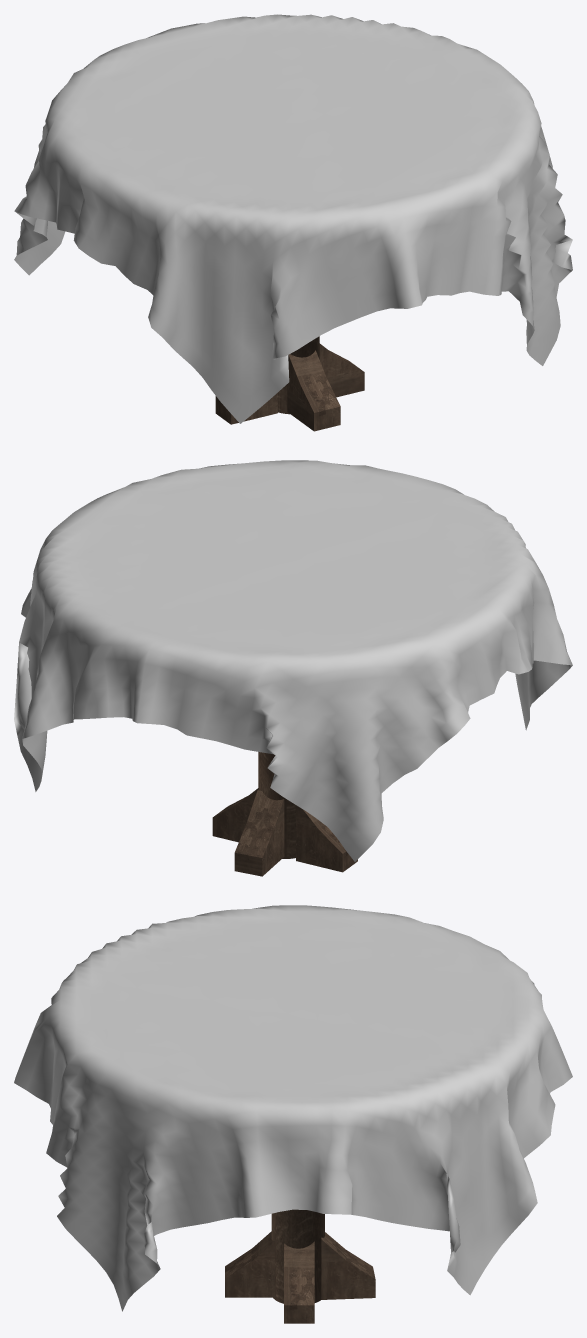
Rendered from MesaComer.fbx.
3 views of the same model, one above another, from view 1: azimuth 30°, elevation 25°; view 2: azimuth 150°, elevation 25°; view 3: azimuth 270°, elevation 25° (orthographic).
Parts seen in each view (by area): view 1: Plane, Cube.003, Cube.001, Cube.002, Cylinder.001; view 2: Plane, Cube.004, Cube.002, Cylinder.001, Cube.001; view 3: Plane, Cylinder.001, Cube.004, Cube.003, Cube.001.
Boxes of the visible parts, left/top/right/bottom form: Plane: left=14, top=14, right=572, bottom=423; Cube.003: left=287, top=350, right=340, bottom=431; Cube.001: left=319, top=343, right=364, bottom=397; Cube.002: left=215, top=392, right=277, bottom=424; Cylinder.001: left=278, top=336, right=319, bottom=414; Plane: left=14, top=460, right=572, bottom=861; Cube.004: left=234, top=790, right=284, bottom=876; Cube.002: left=296, top=805, right=357, bottom=872; Cylinder.001: left=258, top=752, right=295, bottom=858; Cube.001: left=212, top=788, right=258, bottom=842; Plane: left=14, top=905, right=572, bottom=1311; Cylinder.001: left=271, top=1209, right=324, bottom=1303; Cube.004: left=321, top=1232, right=375, bottom=1299; Cube.003: left=225, top=1231, right=274, bottom=1297; Cube.001: left=284, top=1241, right=314, bottom=1323.
Size of the model in its own units: 165 by 96.9 by 169.
